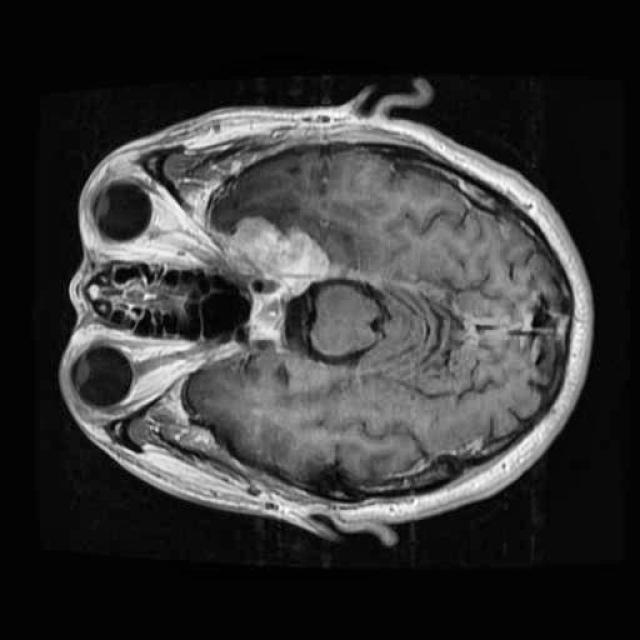Tumor: (216, 204, 341, 296)
